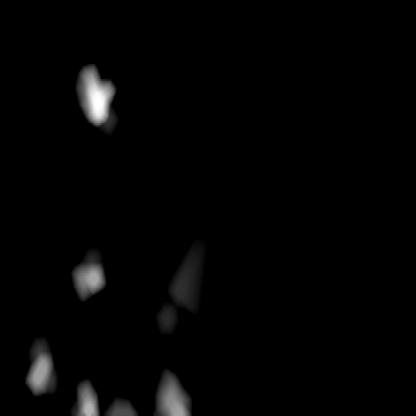fingers: (79, 62, 114, 130)
palm: (29, 335, 192, 414)
